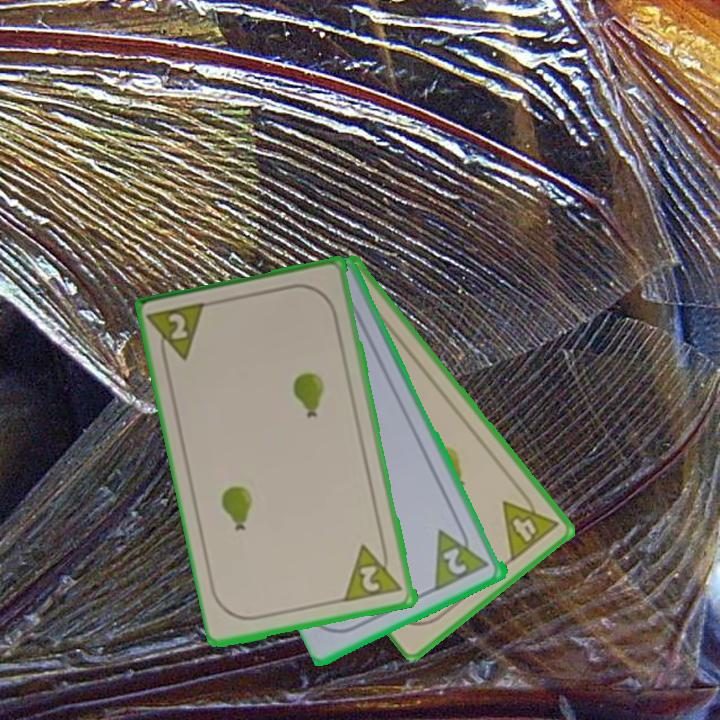2p: (146, 299, 211, 369), (342, 537, 406, 606), (440, 544, 471, 578)
4p: (498, 484, 562, 565)
